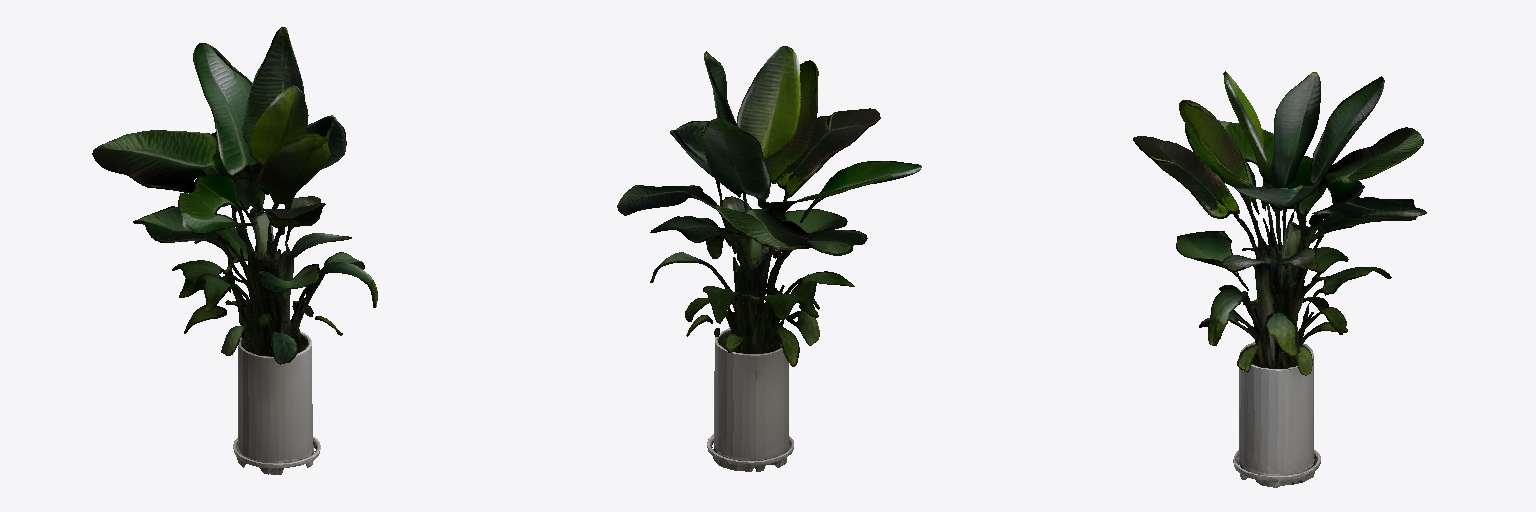
3 renders of one model, left to right at view 1: azimuth 30°, elevation 25°; view 2: azimuth 150°, elevation 25°; view 3: azimuth 270°, elevation 25°, orthographic.
Parts seen in each view (by area): view 1: geometry_0; view 2: geometry_0; view 3: geometry_0.
Boxes of the visible parts, x1,y1,x2,y2 form: geometry_0: [92, 27, 377, 474]; geometry_0: [617, 46, 921, 471]; geometry_0: [1133, 71, 1426, 487].
Size of the model in its own units: 0.5662 by 0.9993 by 0.6485.
Materials: 1 (1 with a texture image).